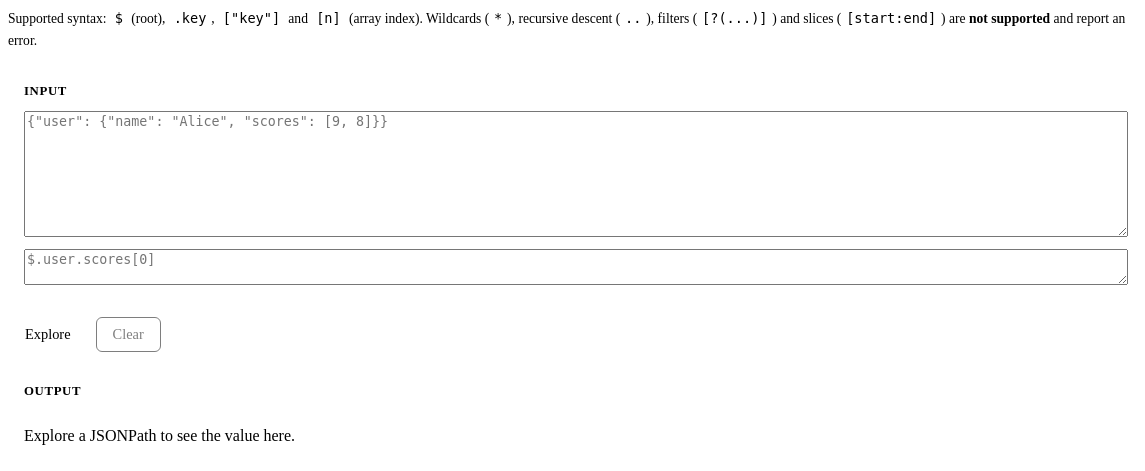
it: JsonPathExplorerTool › shows an error when the JSON input is empty
This screenshot has width=1145, height=471.
Type "$.a" into the text box named "JSONPath input" at [576, 266], box [24,248,1128,284]
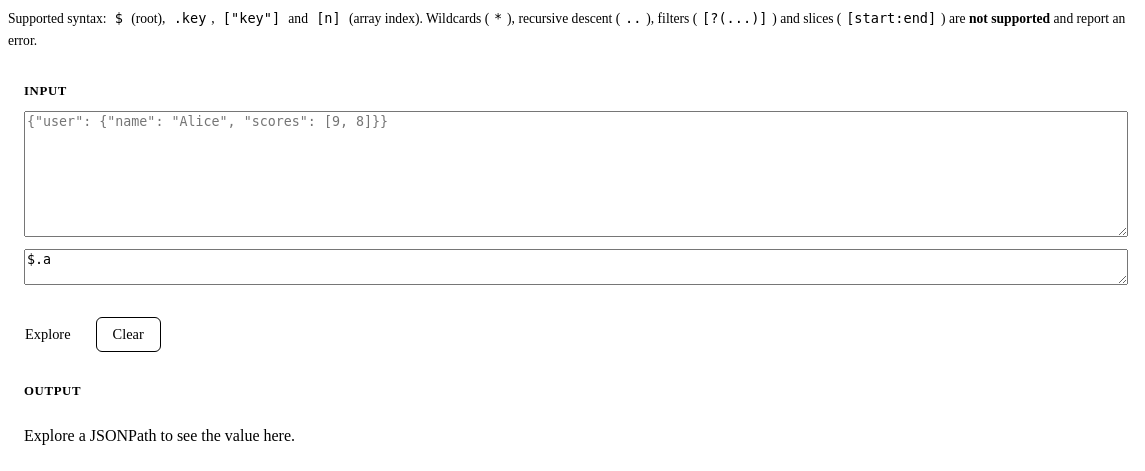
Click the button "Explore" at [48, 334], box [8,316,88,352]
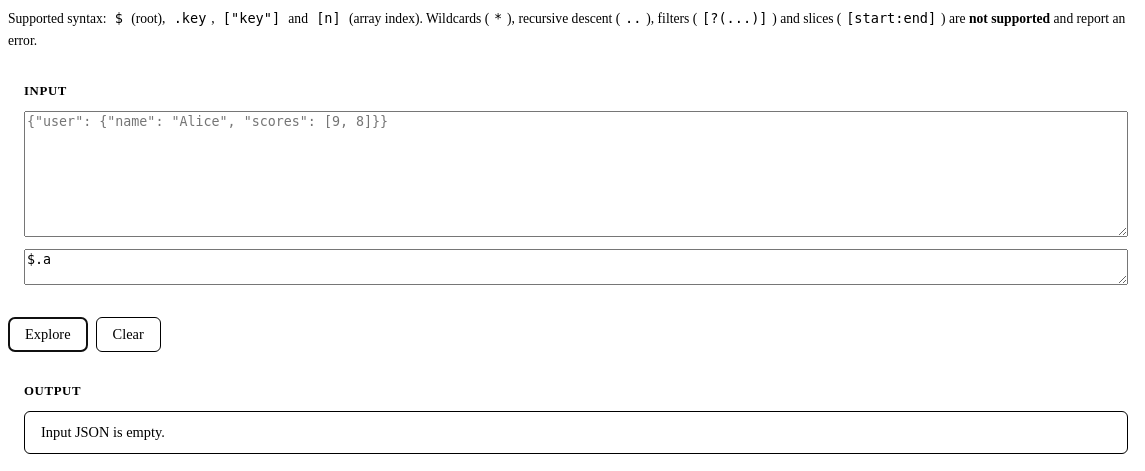
Check: the message shows "Input JSON is empty", box [41,424,165,440]
